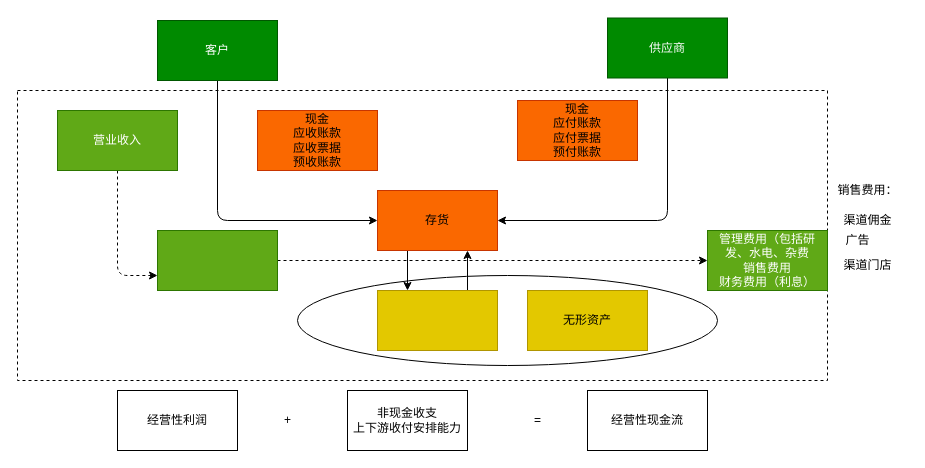
The diagram is 925 pixels wide and 468 high, and some of its shapes have lost their labels. Each missing label, with the box of its shape:
固定资产: (376, 290, 498, 350)
营业成本: (156, 230, 278, 290)
